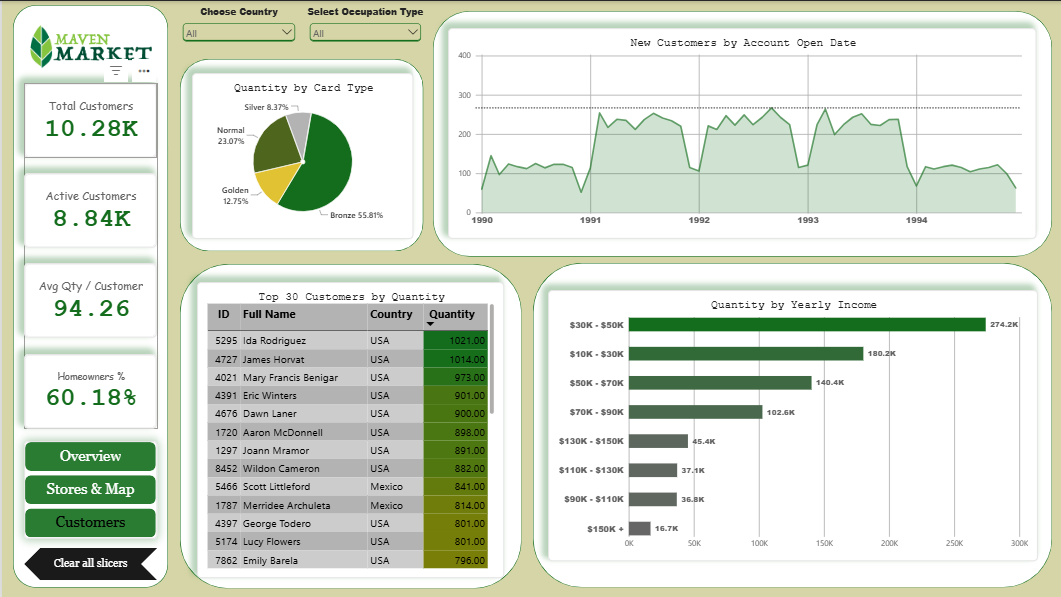

The dashboard page shown, as its layout file describes it:
{"tool":"powerbi","page":{"name":"Customers","canvas":[1920,1080],"ordinal":2},"visuals":[{"type":"shape","box":[20,7.5,280,1052.5],"z":0},{"type":"shape","box":[778.9,18.1,1118.1,443.6],"z":0,"group":"g2"},{"type":"shape","box":[320.7,474.7,617.1,586.4],"z":0,"group":"g4"},{"type":"image","box":[20,37.5,280,87.5],"z":1000},{"type":"lineChart","title":"New Customers by Account Open Date","fields":{"Category":["DimCustomer.acct_open_date.Variation.Date Hierarchy.Year","DimCustomer.acct_open_date.Variation.Date Hierarchy.Month"],"Y":["_Measures.Total Customers"]},"box":[806.3,48,1063.4,381.3],"z":1000,"group":"g2"},{"type":"shape","box":[321.2,104.4,439.6,347.3],"z":1000,"group":"g3"},{"type":"cardVisual","fields":{"Data":["_Measures.Avg Quantity / Customer"]},"box":[40.1,474.3,240,135],"z":1000,"group":"g1"},{"type":"tableEx","title":"Top 30 Customers by Quantity","fields":{"Values":["DimCustomer.customer_id","DimCustomer.Full Name","DimCustomer.customer_country","_Measures.Total Sales Quantity"]},"box":[351.9,507,554.6,534.7],"z":1000,"group":"g4"},{"type":"cardVisual","fields":{"Data":["_Measures.Homeowners %"]},"box":[40.1,637.2,240,135],"z":2000,"group":"g1"},{"type":"pageNavigator","box":[40.1,794.9,240.9,176.7],"z":2000},{"type":"actionButton","box":[40.1,987.7,240.9,58.2],"z":3000},{"type":"group","id":"g1","title":"Group 3","box":[40.1,148.6,240.9,624.3],"z":4000},{"type":"cardVisual","fields":{"Data":["_Measures.Active Customers"]},"box":[40.1,311.5,240,135],"z":4000,"group":"g1"},{"type":"group","id":"g2","title":"Line Chart","box":[778.9,18.1,1118.1,443.6],"z":5000},{"type":"cardVisual","fields":{"Data":["_Measures.Total Customers"]},"box":[40.1,148.6,240,135],"z":5000,"group":"g1"},{"type":"group","id":"g3","title":"Group 2","box":[321.2,104.4,439.6,347.3],"z":6000},{"type":"shape","box":[959.6,473.8,937.5,586.2],"z":7000},{"type":"donutChart","title":" Quantity by Card Type","fields":{"Category":["DimCustomer.member_card"],"Y":["_Measures.Total Sales Quantity"]},"box":[343.5,129.2,400,299.8],"z":8000,"group":"g3"},{"type":"clusteredBarChart","title":" Quantity by Yearly Income","fields":{"Category":["DimCustomer.yearly_income"],"Y":["_Measures.Total Sales Quantity"]},"box":[985.7,521.9,885.3,489.8],"z":8000},{"type":"group","id":"g4","title":"50 Sales Product","box":[320.7,474.7,616.1,586.5],"z":9000},{"type":"slicer","title":"Choose Country","fields":{"Values":["DimCustomer.customer_country"]},"box":[321.2,8,212.8,96.4],"z":10000},{"type":"slicer","title":"Select Occupation Type","fields":{"Values":["DimCustomer.occupation"]},"box":[550,8,210.8,96.4],"z":11000}]}

Visuals, with their boxes in screenshot pixels (x1, y1, x2, y2), scaled from the page's 1920x1080 canvas onto the 1061x597 screenshot:
shape: 11,4,166,586
shape: 430,10,1048,255
shape: 177,262,518,587
image: 11,21,166,69
"New Customers by Account Open Date" lineChart: 446,27,1033,237
shape: 177,58,420,250
cardVisual - _Measures.Avg Quantity / Customer: 22,262,155,337
"Top 30 Customers by Quantity" tableEx: 194,280,501,576
cardVisual - _Measures.Homeowners %: 22,352,155,427
pageNavigator: 22,439,155,537
actionButton: 22,546,155,578
"Group 3" group: 22,82,155,427
cardVisual - _Measures.Active Customers: 22,172,155,247
"Line Chart" group: 430,10,1048,255
cardVisual - _Measures.Total Customers: 22,82,155,157
"Group 2" group: 177,58,420,250
shape: 530,262,1048,586
" Quantity by Card Type" donutChart: 190,71,411,237
" Quantity by Yearly Income" clusteredBarChart: 545,288,1034,559
"50 Sales Product" group: 177,262,518,587
"Choose Country" slicer: 177,4,295,58
"Select Occupation Type" slicer: 304,4,420,58
